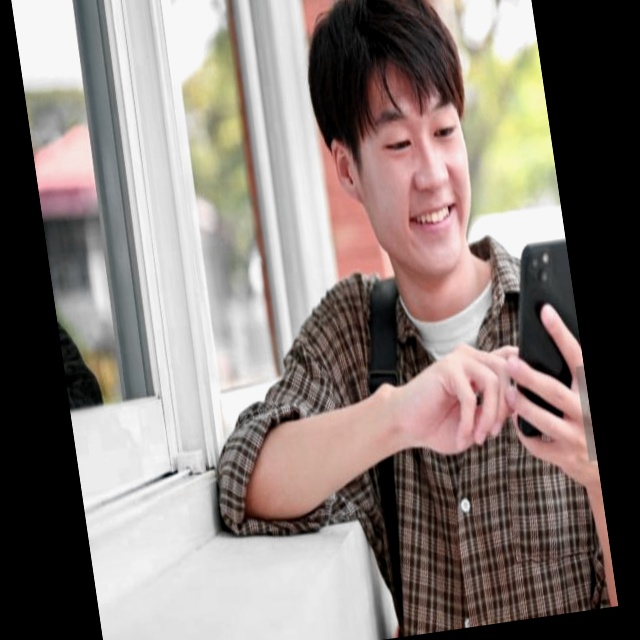Sin_Casco_Mascarrilla: (293, 0, 491, 286)
